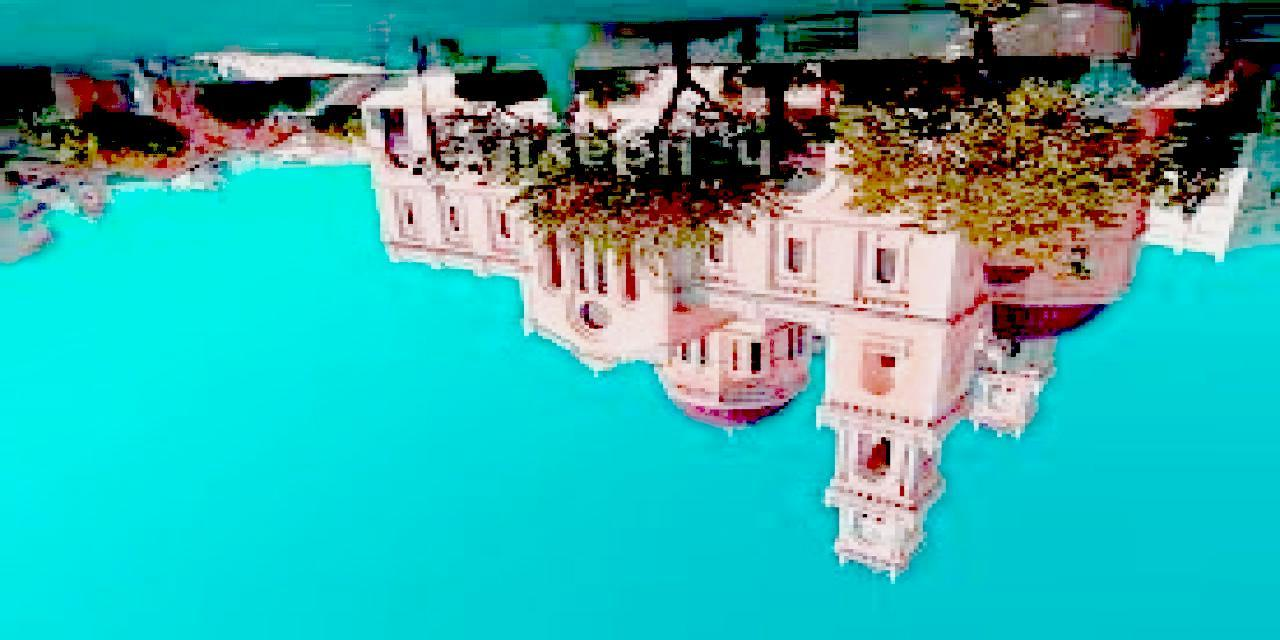Agios Minas: (358, 77, 1156, 597)
